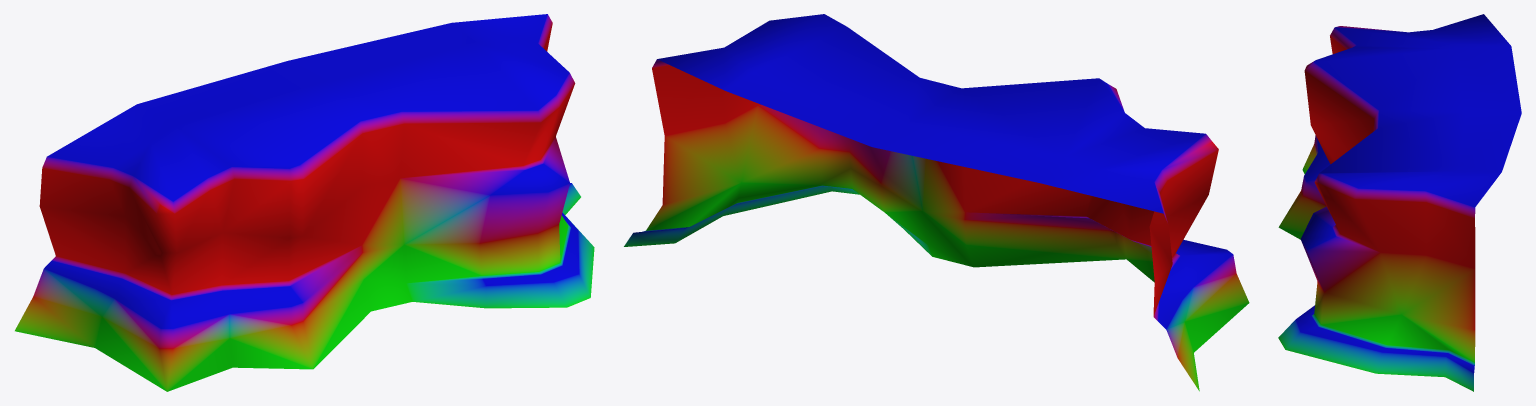
File: M_Rock_Cliff_a_VC.fbx
3 views of the same model, side by side, from view 1: azimuth 30°, elevation 25°; view 2: azimuth 150°, elevation 25°; view 3: azimuth 270°, elevation 25° (orthographic). The views are drawn at different scales.
Parts seen in each view (by area): view 1: Rock_Cliff_A; view 2: Rock_Cliff_A; view 3: Rock_Cliff_A.
Boxes of the visible parts, x1,y1,x2,y2 form: Rock_Cliff_A: (15,14,594,391); Rock_Cliff_A: (624,14,1249,391); Rock_Cliff_A: (1278,14,1521,391).
Size of the model in its own units: 1132 by 371 by 476.
